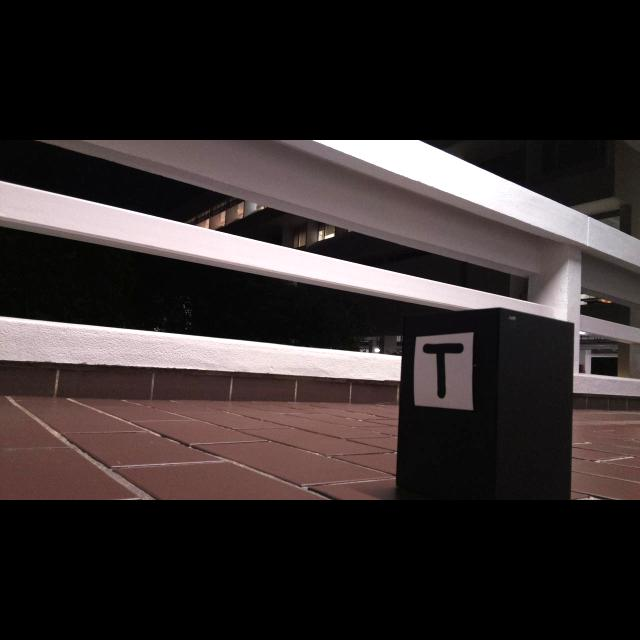T: (422, 344, 465, 399)
